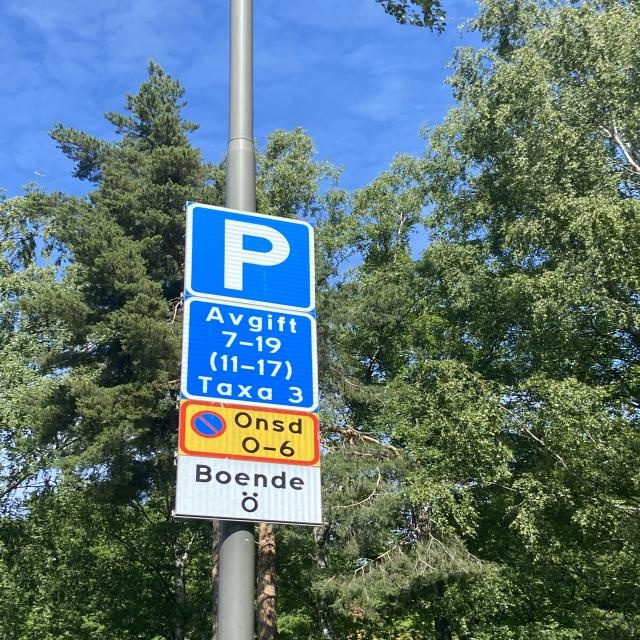P-skylt: (188, 203, 314, 313)
